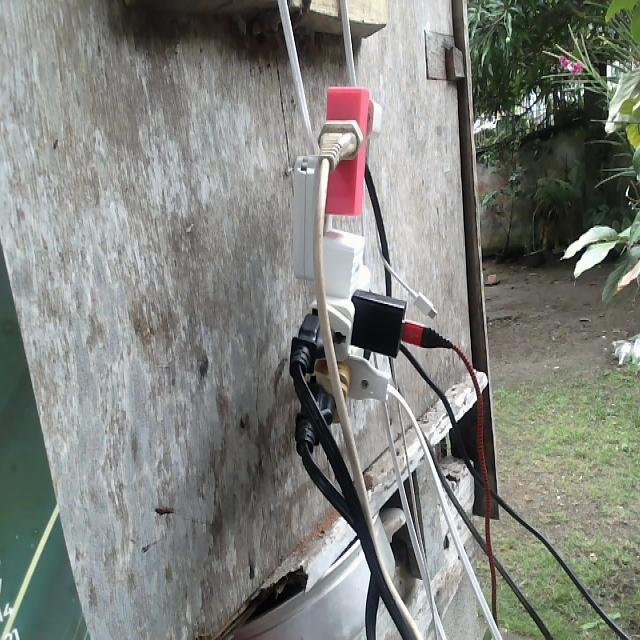-: (286, 82, 415, 458)
